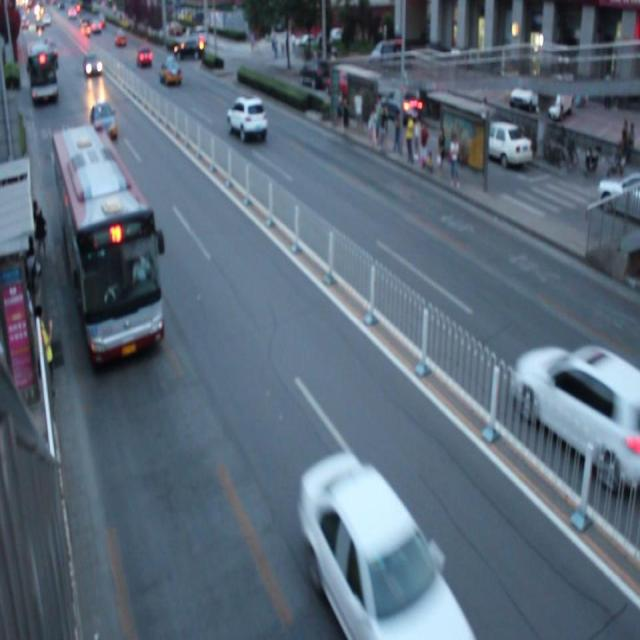car: (297, 451, 473, 640), (514, 336, 640, 484), (227, 96, 268, 142), (91, 103, 119, 139), (160, 57, 180, 88)
van: (52, 127, 163, 355)
